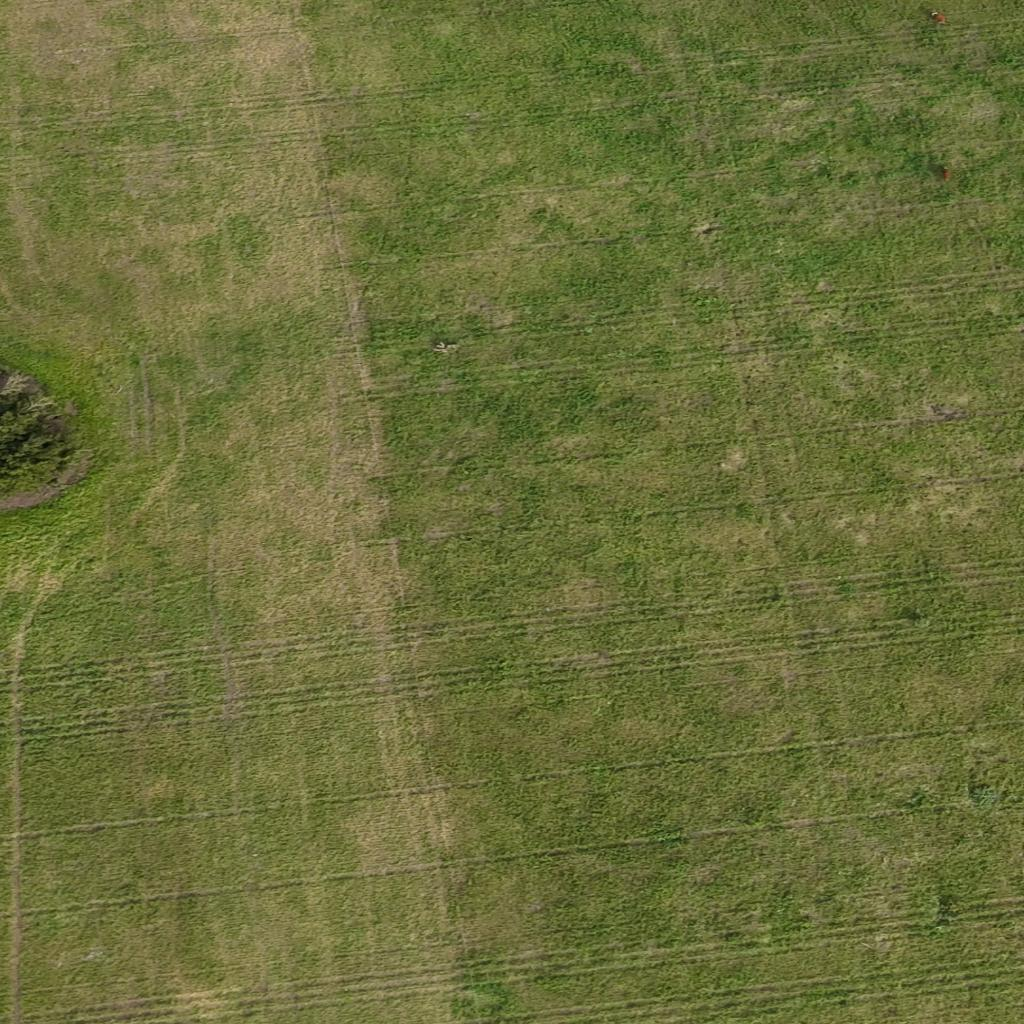cow: (926, 10, 950, 30), (934, 164, 952, 183)
